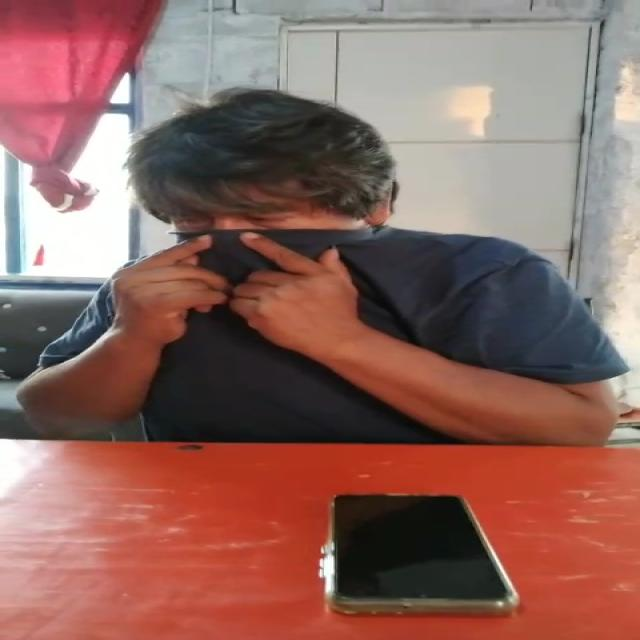8_ropa_rostro: (127, 222, 428, 323)
